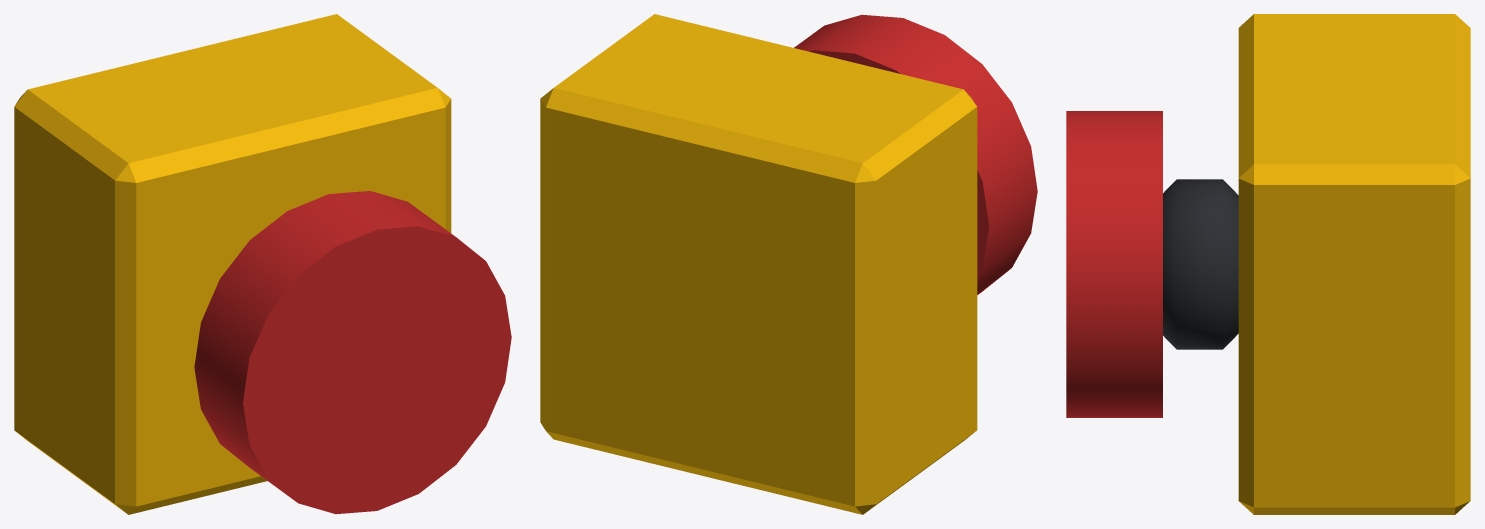
Rendered from emergency_stop.glb.
3 renders of one model, left to right at view 1: azimuth 30°, elevation 25°; view 2: azimuth 150°, elevation 25°; view 3: azimuth 270°, elevation 25°, orthographic.
Visible parts, largest first — view 1: Stop_Static, Button; view 2: Stop_Static, Button; view 3: Stop_Static, Button.
Boxes of the visible parts, x1,y1,x2,y2 form: Stop_Static: (14, 14, 451, 514); Button: (194, 191, 511, 514); Stop_Static: (540, 14, 977, 514); Button: (794, 14, 1037, 294); Stop_Static: (1163, 14, 1470, 514); Button: (1066, 111, 1162, 417).
Size of the model in its own units: 0.1 by 0.1 by 0.1045.
